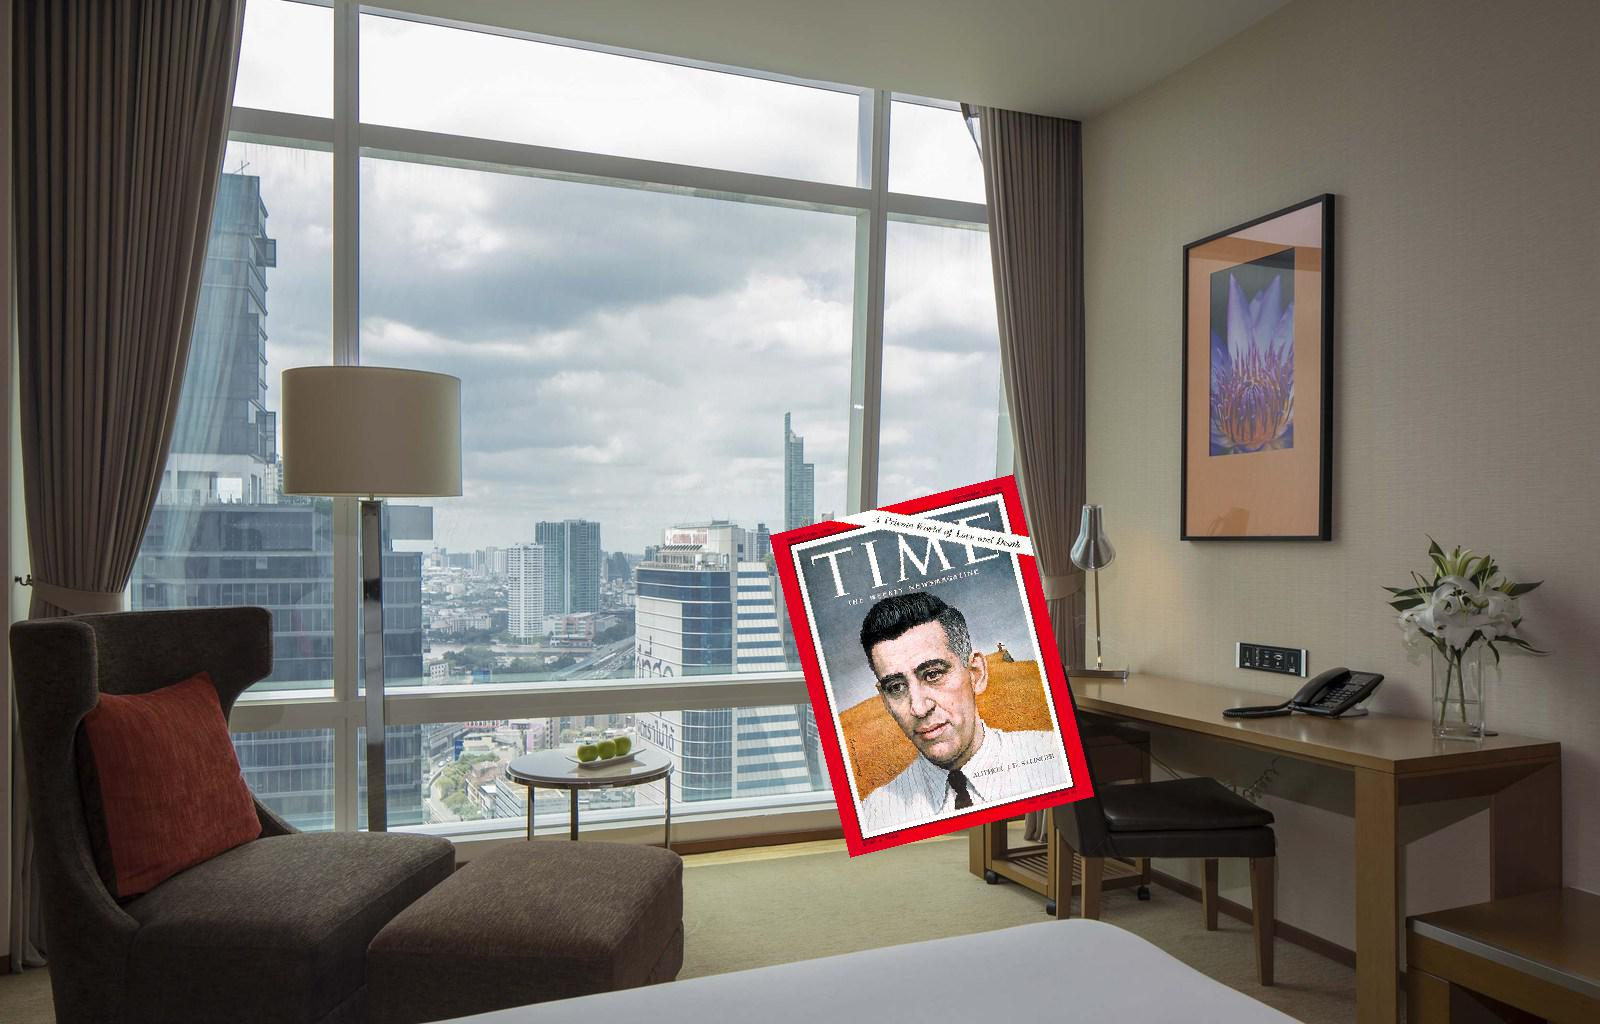times: (766, 472, 1096, 860)
